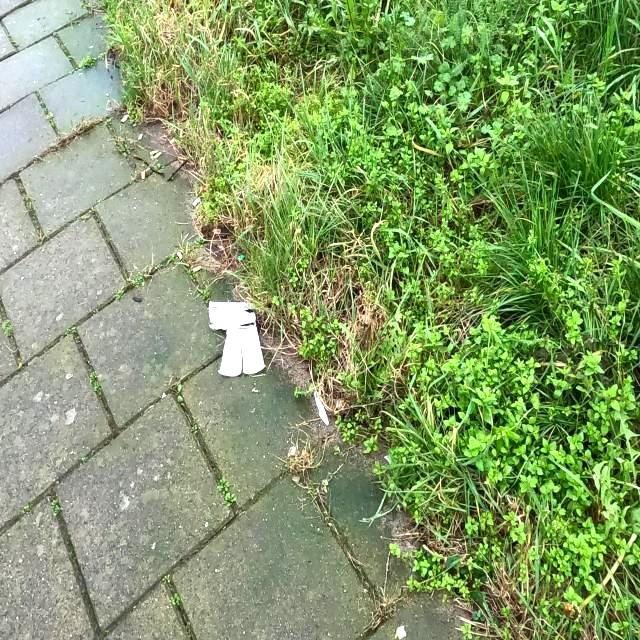Coffee Cup: (206, 298, 266, 378)
